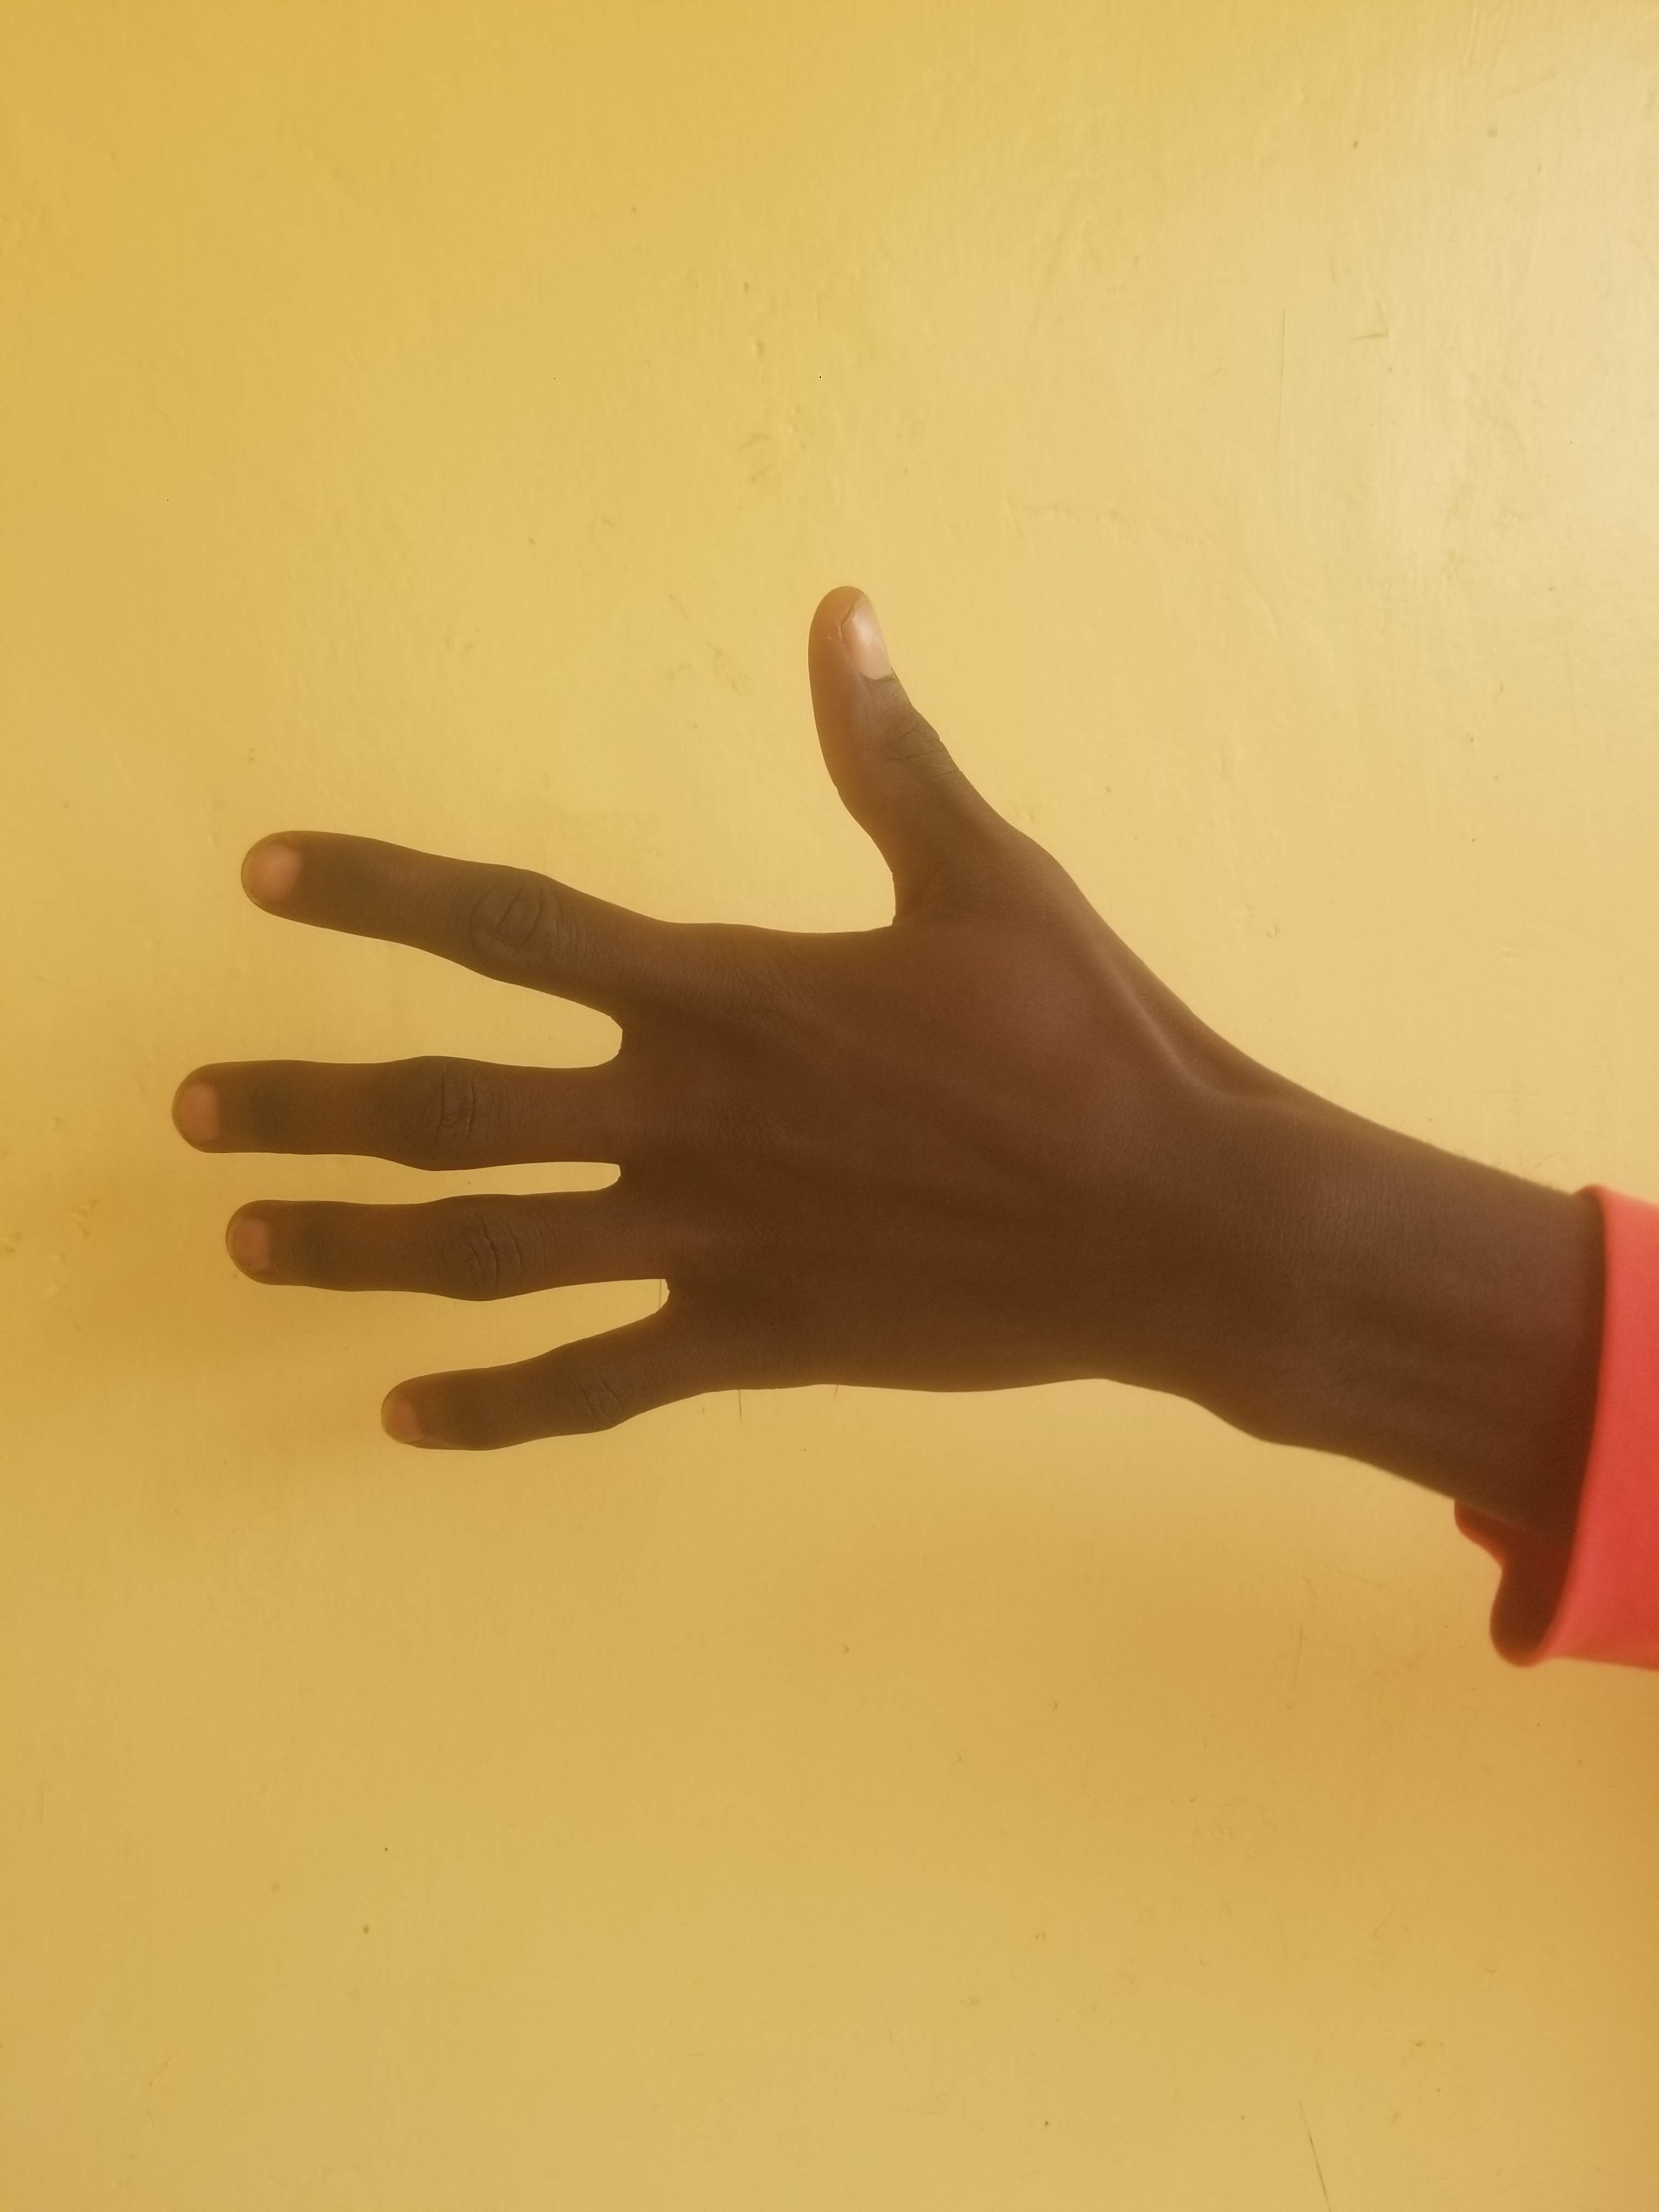open palm: (78, 420, 1417, 1935)
